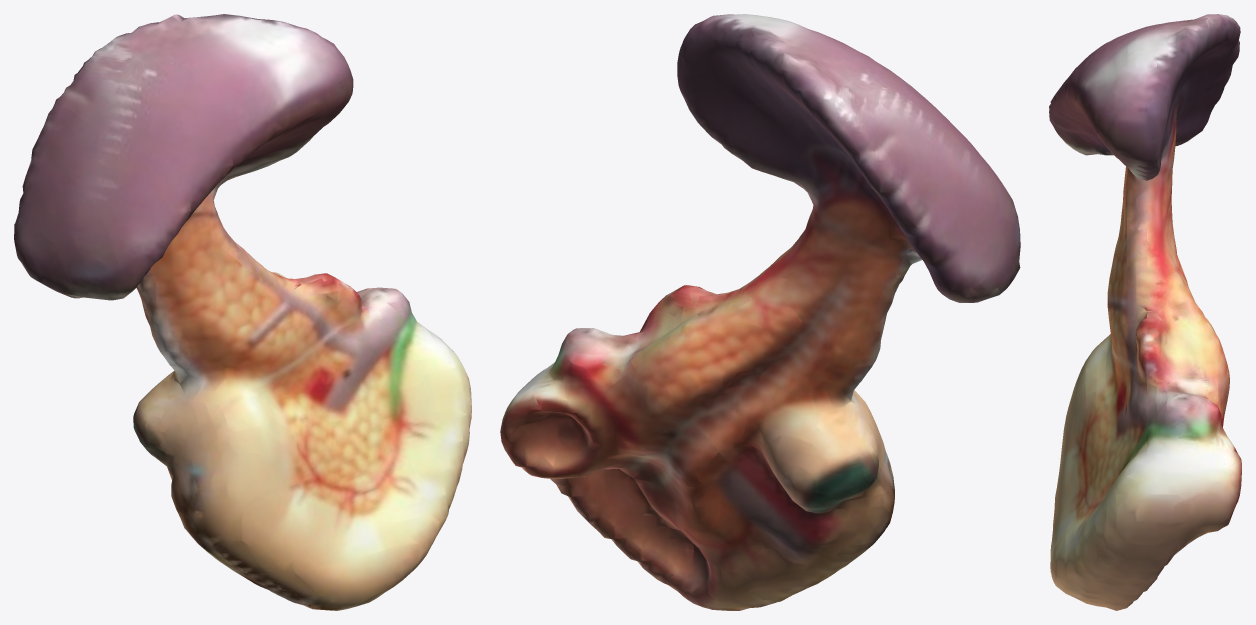
The model's file is duodenum_pancreas_spleen.glb.
3 views of the same model, side by side, from view 1: azimuth 30°, elevation 25°; view 2: azimuth 150°, elevation 25°; view 3: azimuth 270°, elevation 25° (orthographic). The views are drawn at different scales.
Visible parts, largest first — view 1: Modelobjcleanermaterialmergergles; view 2: Modelobjcleanermaterialmergergles; view 3: Modelobjcleanermaterialmergergles.
Part boxes in pixels (x1,y1,x2,y2): Modelobjcleanermaterialmergergles: [14, 14, 471, 610]; Modelobjcleanermaterialmergergles: [500, 14, 1020, 610]; Modelobjcleanermaterialmergergles: [1049, 14, 1241, 610].
Bounding box in the file's own units: 3.46 × 4.37 × 1.44.
Materials: 1 (1 with a texture image).
